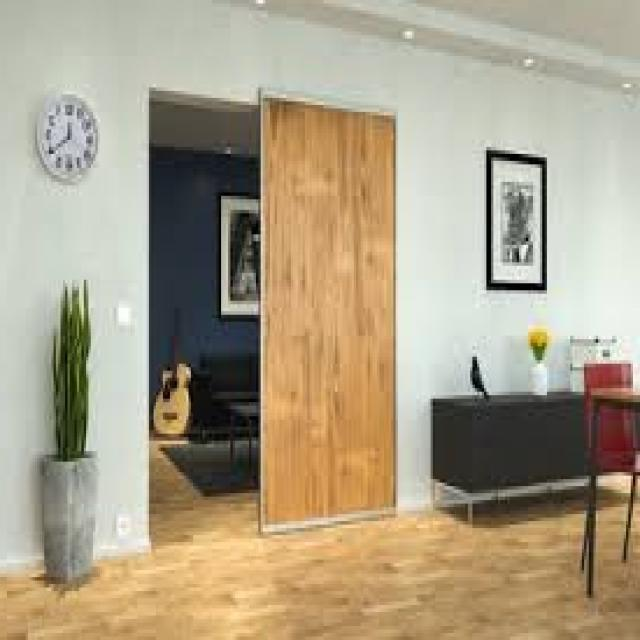door: (259, 93, 397, 533)
